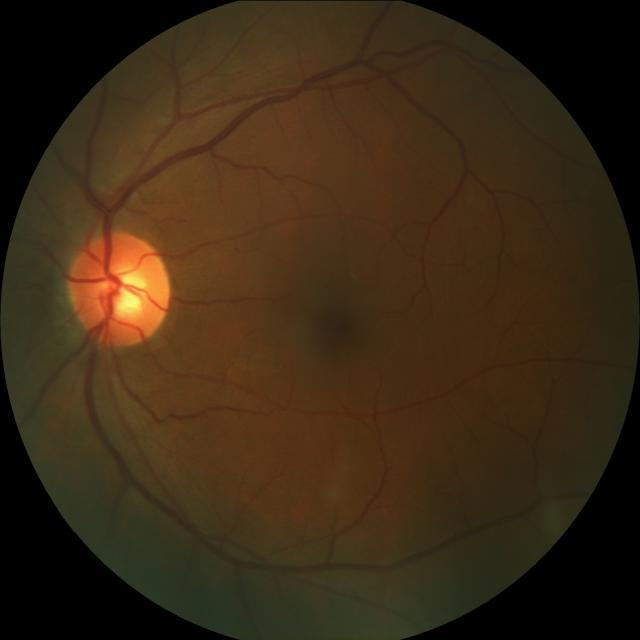OC: (100, 270, 147, 314)
OD: (69, 228, 172, 346)
